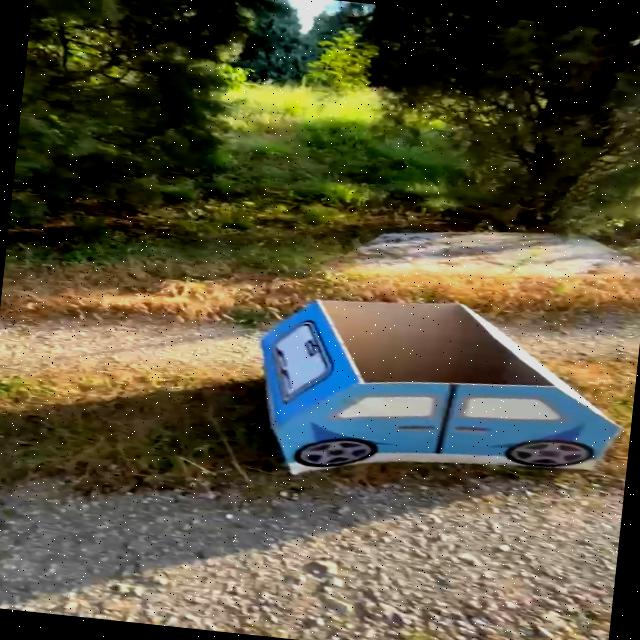blue_car: (221, 263, 640, 517)
